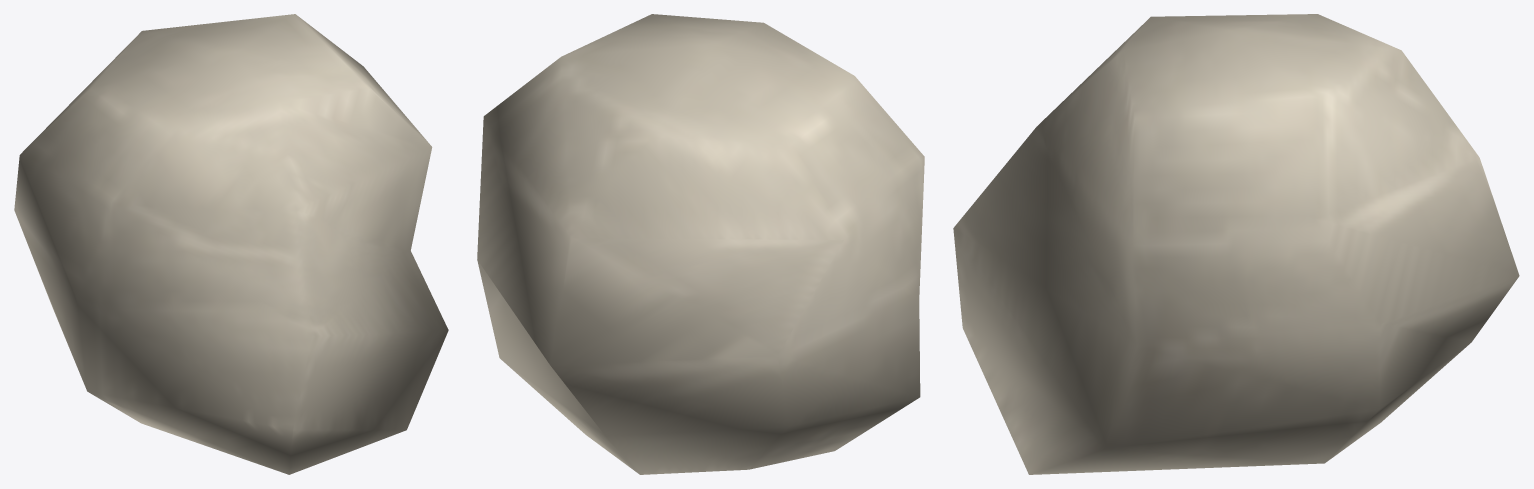
Rendered from Rock2.fbx.
The picture shows the model from 3 angles, left to right: view 1: azimuth 30°, elevation 25°; view 2: azimuth 150°, elevation 25°; view 3: azimuth 270°, elevation 25°; orthographic projection. The views are drawn at different scales.
Visible parts, largest first — view 1: Rock2; view 2: Rock2; view 3: Rock2.
Part boxes in pixels (bbox=[...]): Rock2: bbox=[14, 14, 448, 474]; Rock2: bbox=[477, 14, 924, 474]; Rock2: bbox=[953, 14, 1519, 474].
Size of the model in its own units: 203 by 197 by 252.
